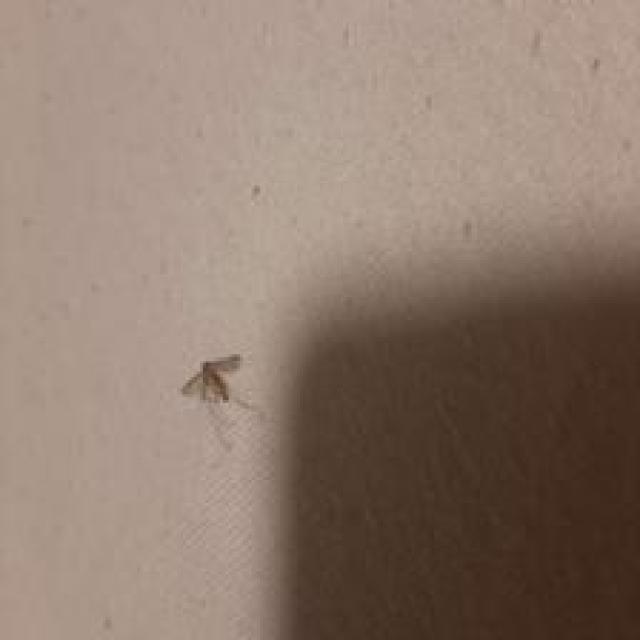Culex: (177, 352, 263, 452)
